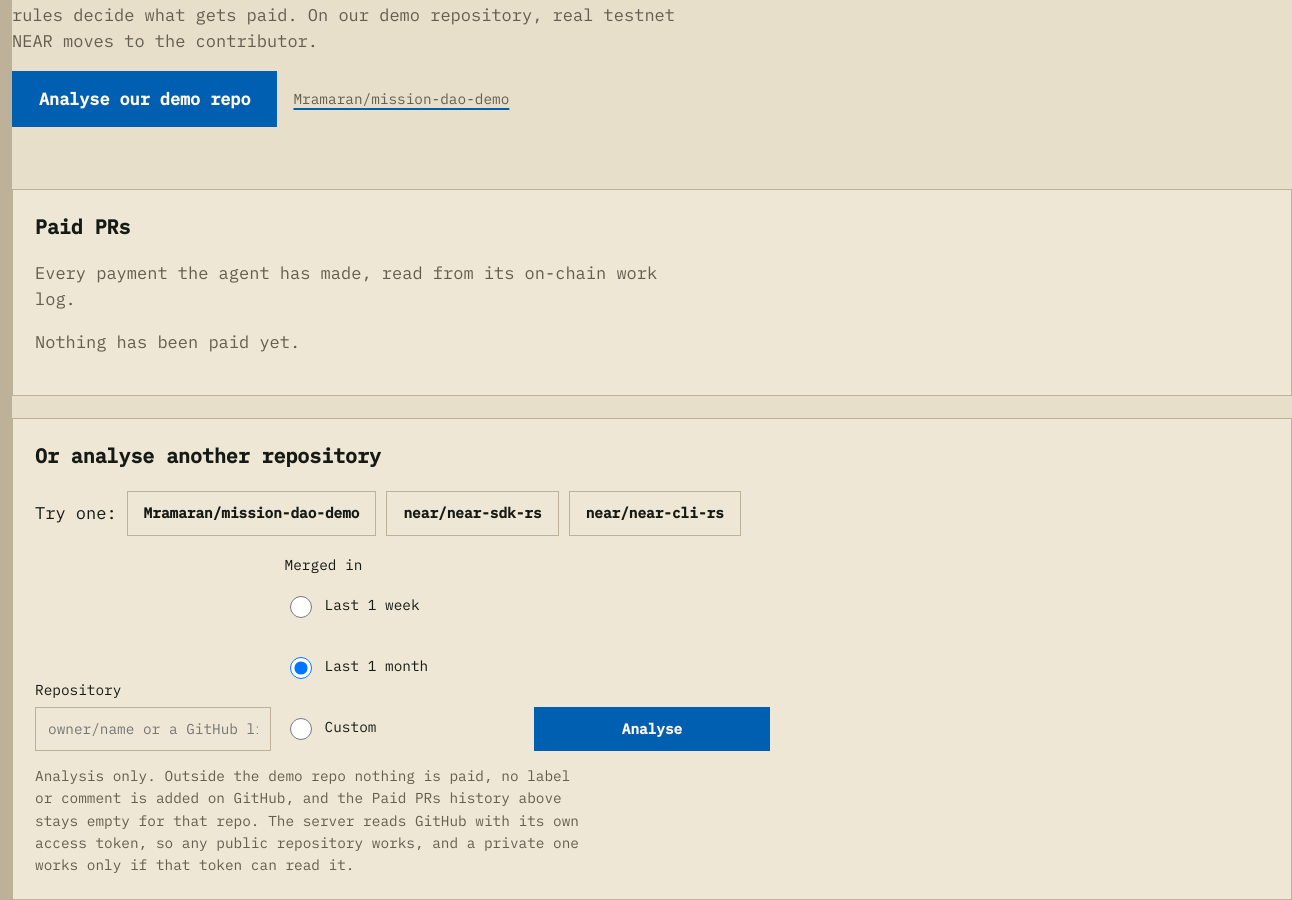
Test: AnalyseRepo › a duplicate on one row does not stop the next row
(page scrolled)
Type "o/r" into the field labelled "Repository" at (153, 729), box left=35, top=707, right=271, bottom=751
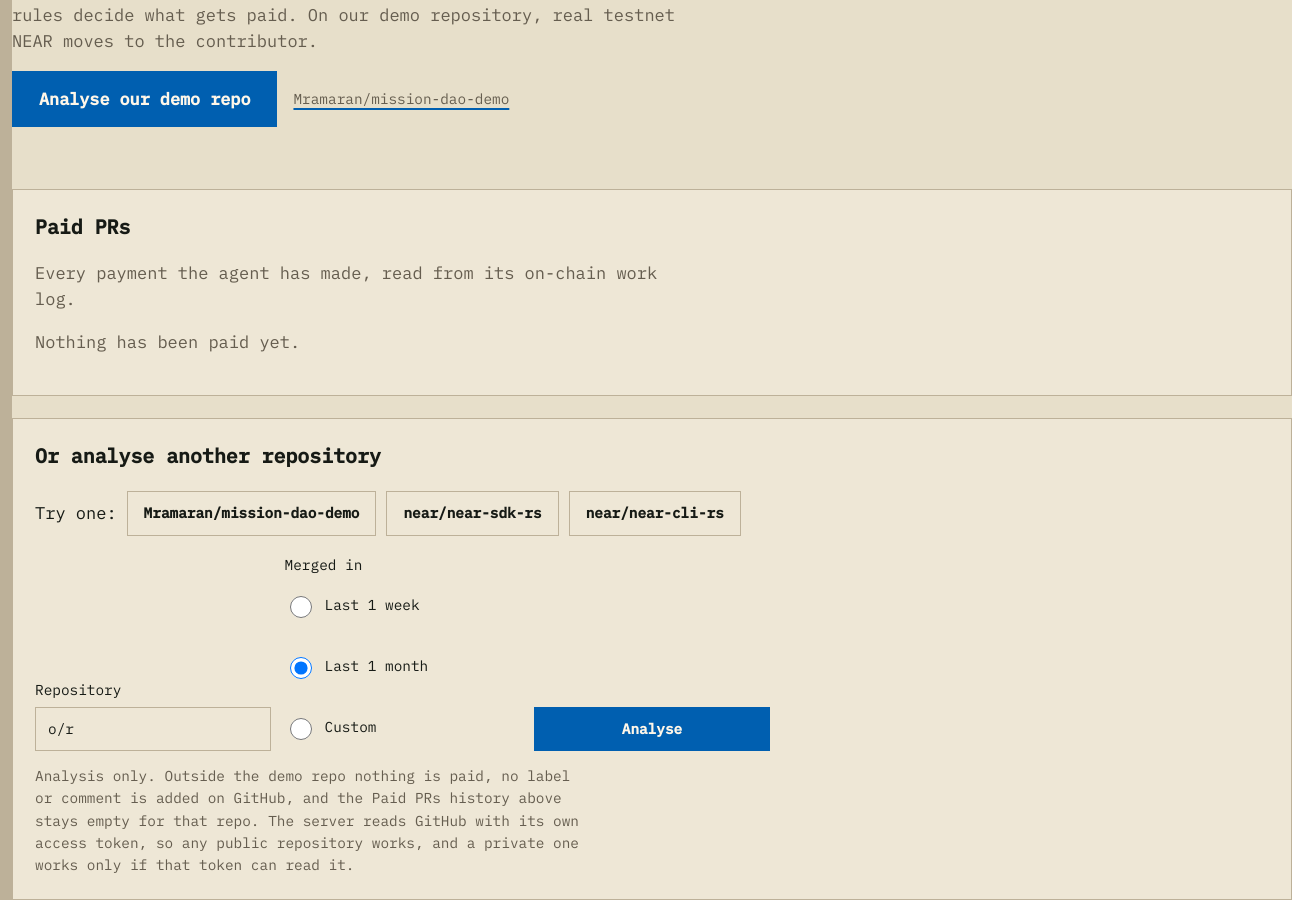
Click the button "Analyse" at (652, 729), box left=534, top=707, right=770, bottom=751
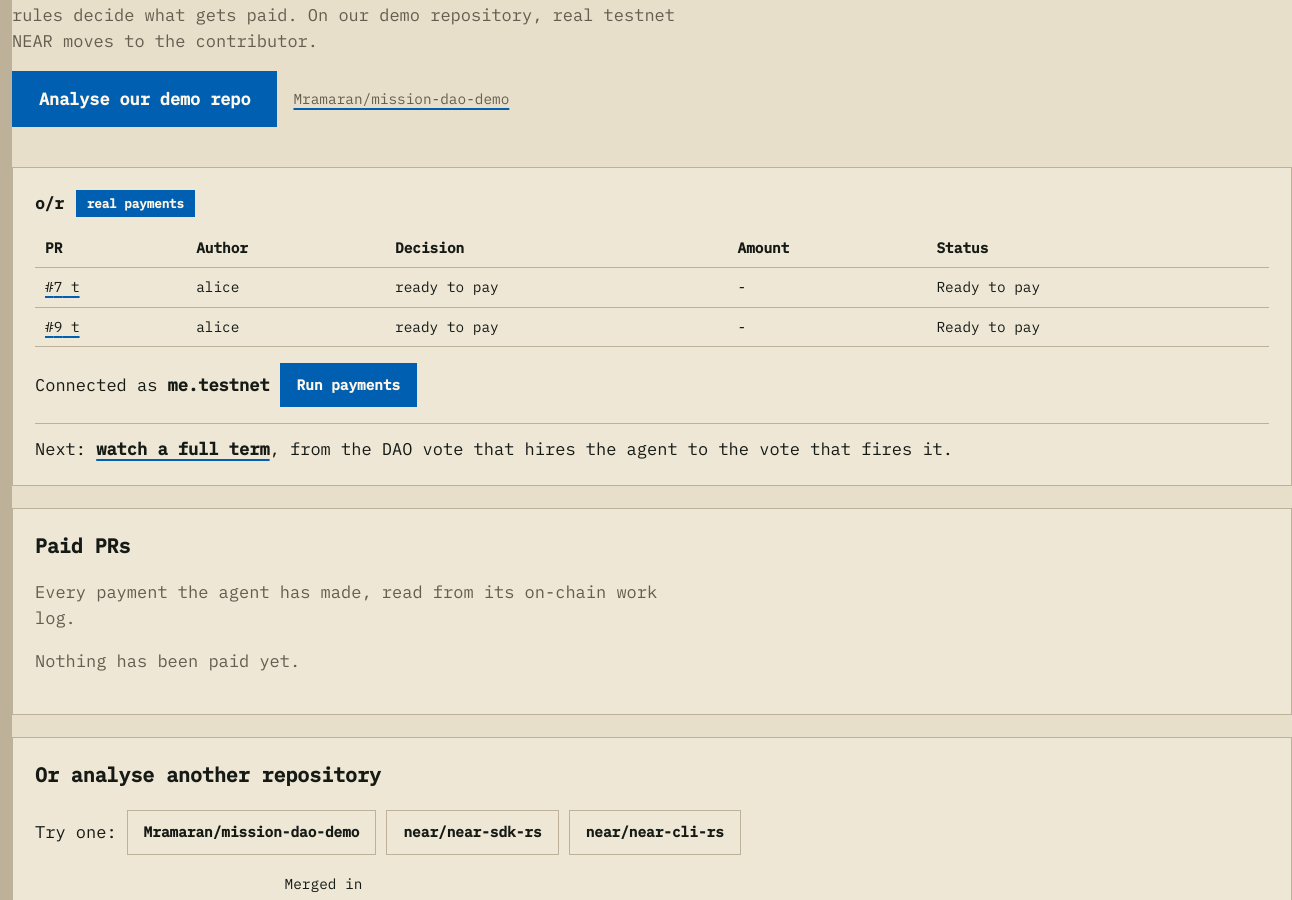
Click the button "Run payments" at (348, 385), box left=280, top=363, right=417, bottom=407
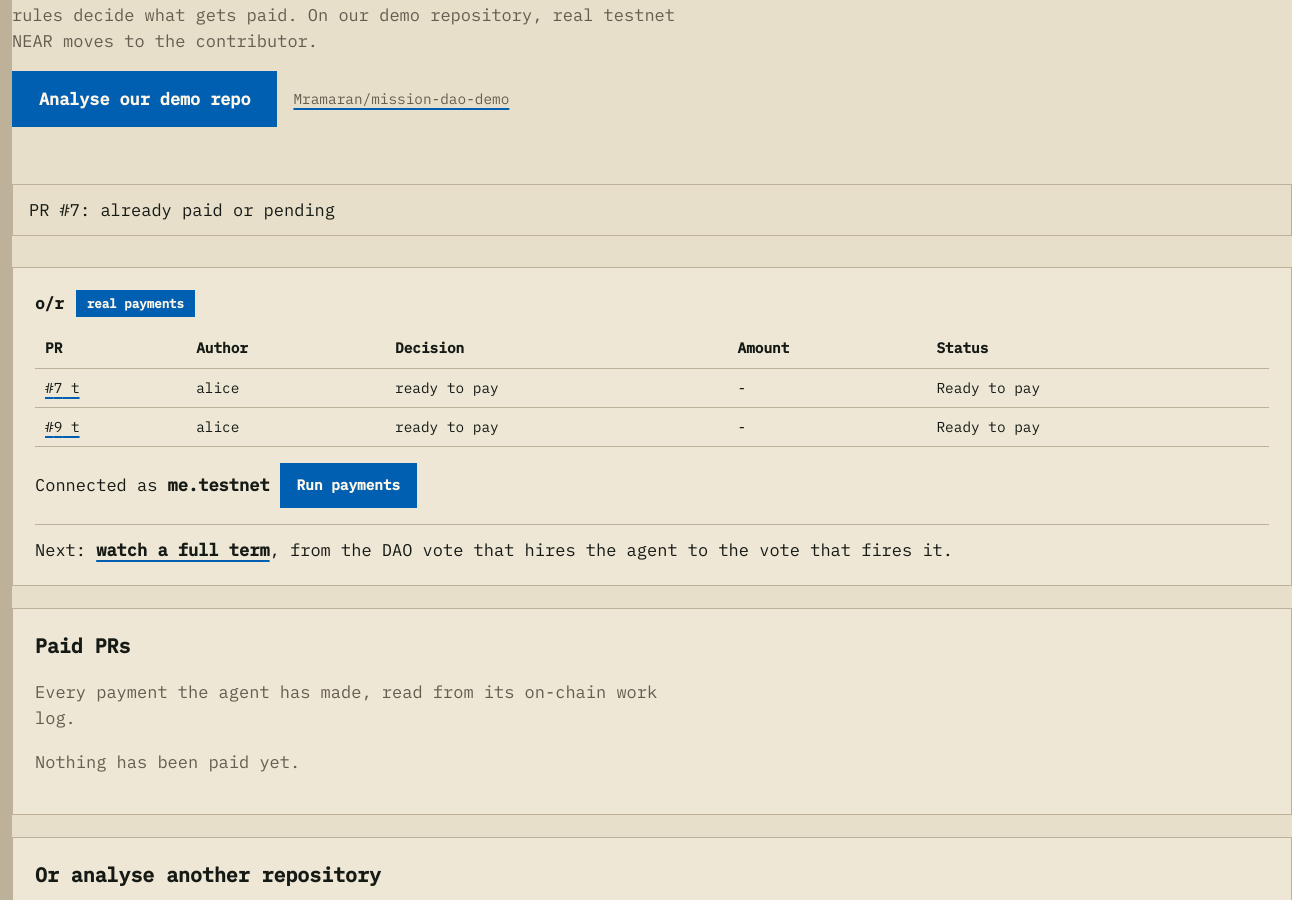
Now the message reads "PR #7: already paid or pending", box left=29, top=199, right=335, bottom=221
